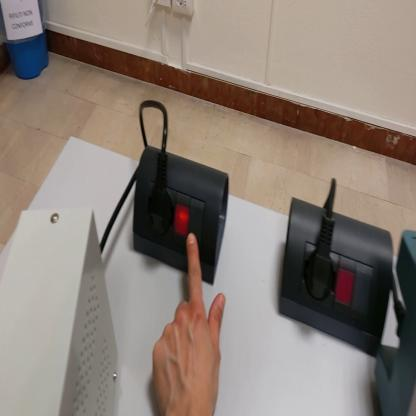hand: (150, 234, 227, 416)
oscilloscope: (374, 230, 416, 416)
power supply: (2, 213, 120, 415)
socket: (280, 196, 394, 362), (131, 144, 228, 284)
